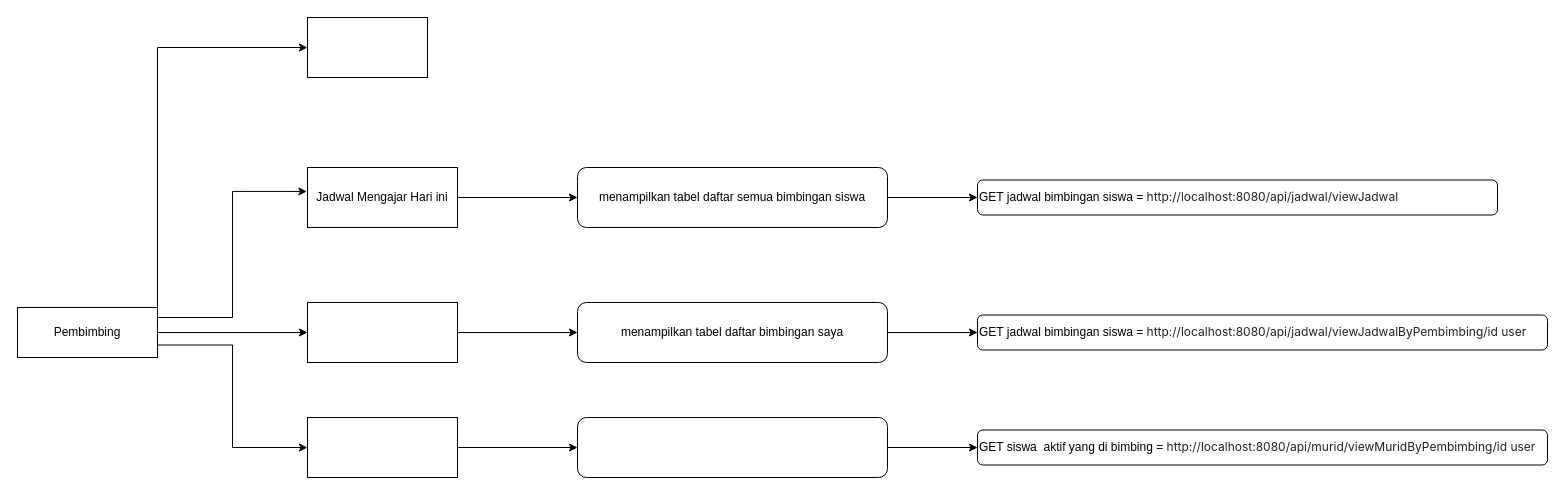
This 1565x495 diagram has some shape labels left out. The centre of each missing label's shape, as x and y in pixels:
"Dashboard" goes at pixel 367 47.
"Data Murid Saya" goes at pixel 382 447.
"Jadwal Mengajar Saya" goes at pixel 382 332.
"menampilkan tabel daftar murid aktif saya" goes at pixel 732 447.
